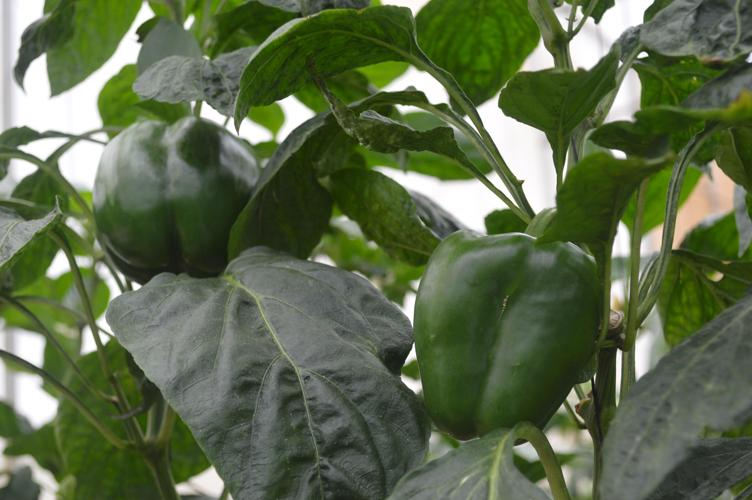BellPepper: (417, 231, 603, 429), (98, 116, 262, 276)
